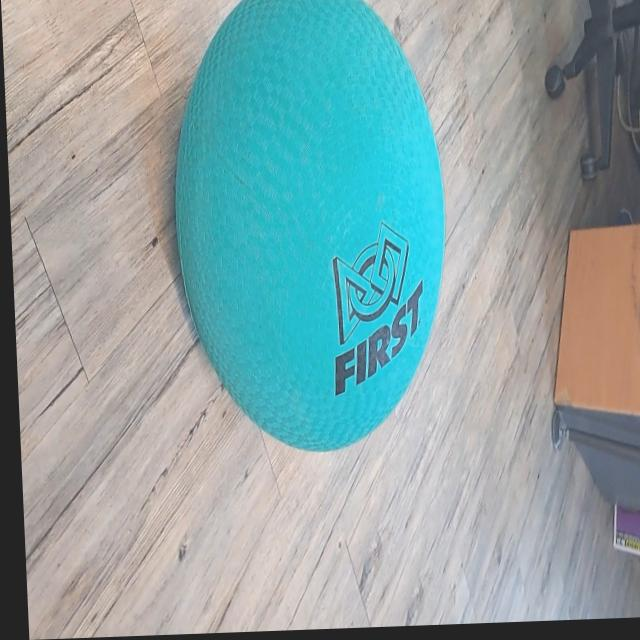ALGAE: (164, 0, 457, 459)
